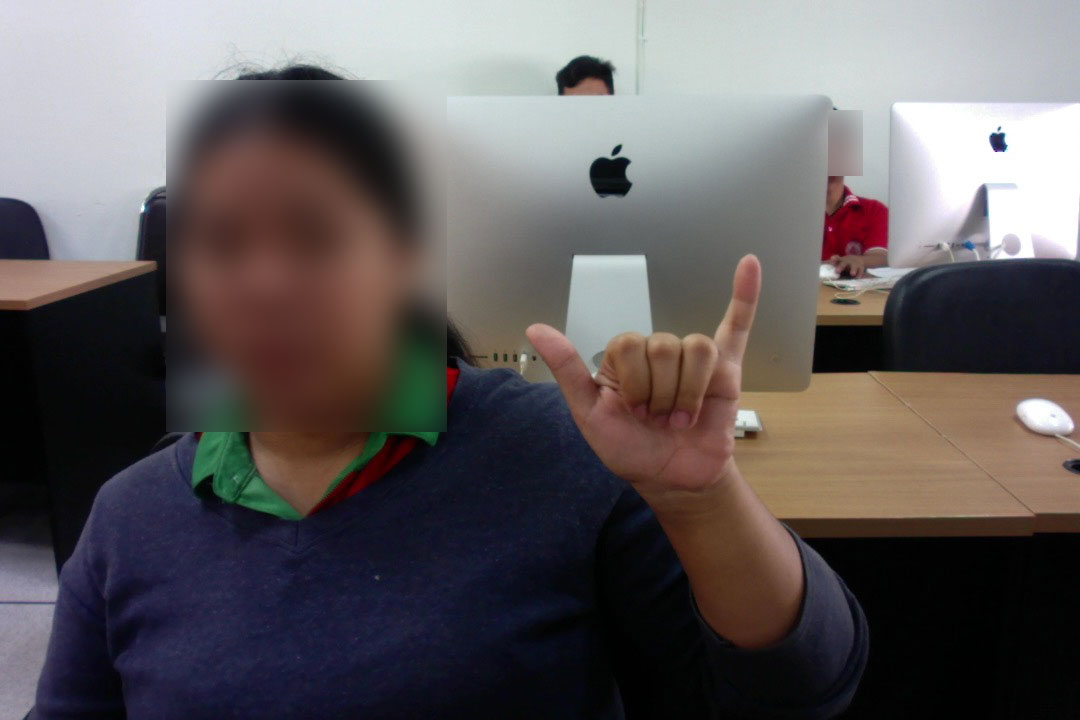yor: (516, 243, 773, 509)
